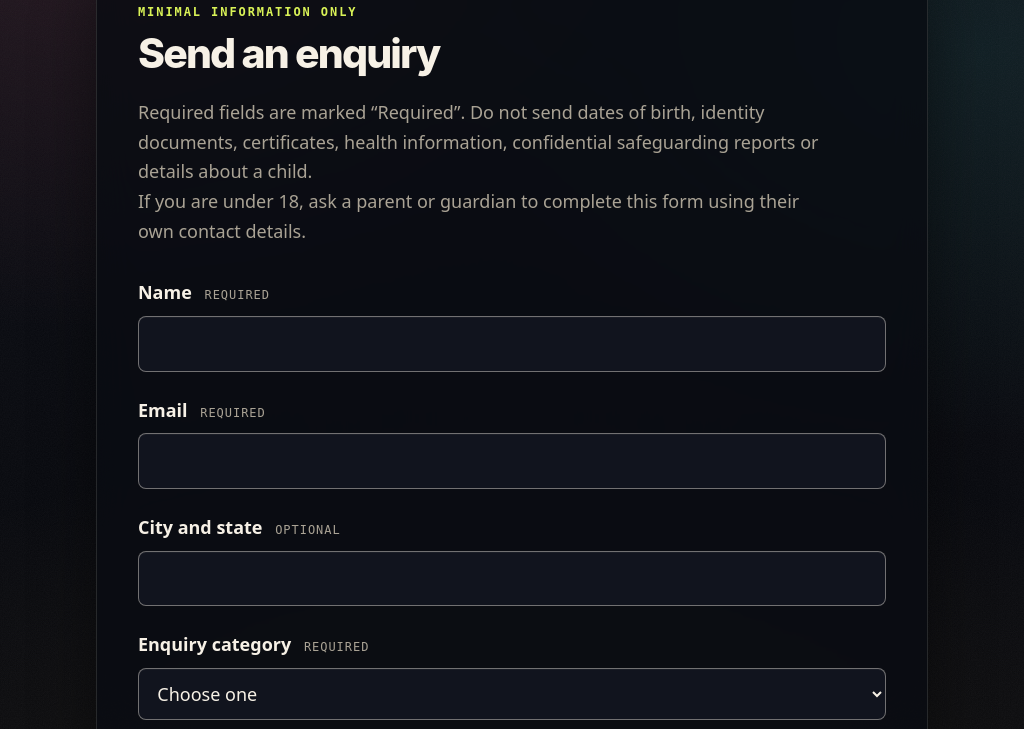
it: enquiry form workstream › preserves values and never shows success after a failed insert
Type "Test Person" into the field labelled "Name Required" at [512, 344], box 138,316 -> 886,372
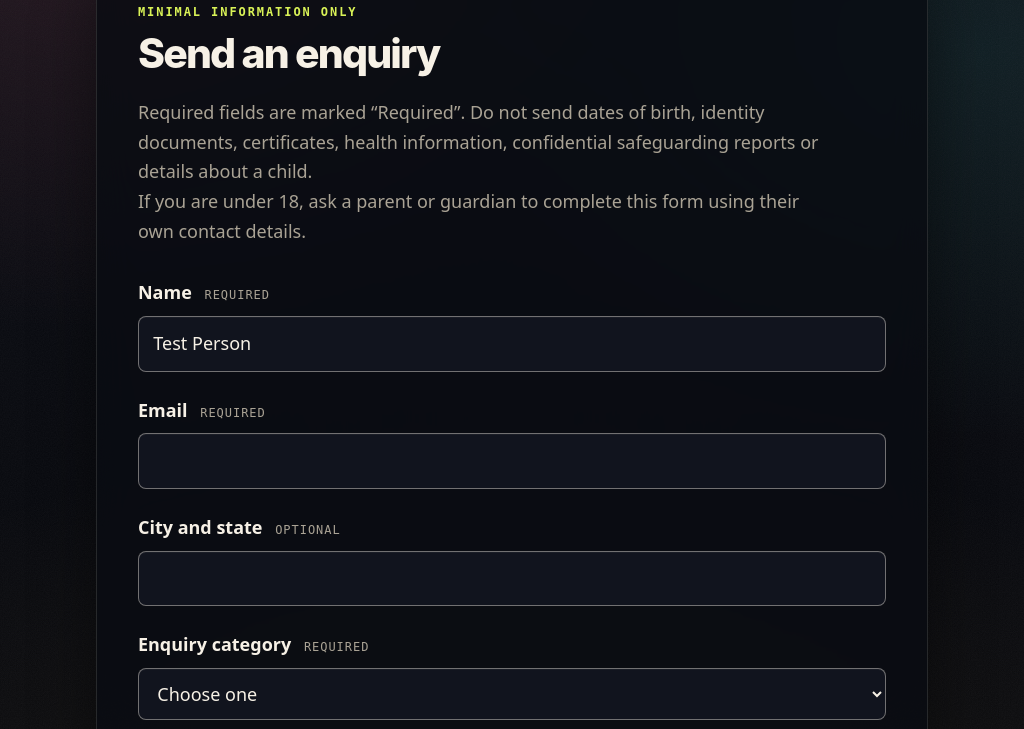
Type "person@example.com" into the field labelled "Email Required" at [512, 461], box 138,433 -> 886,489
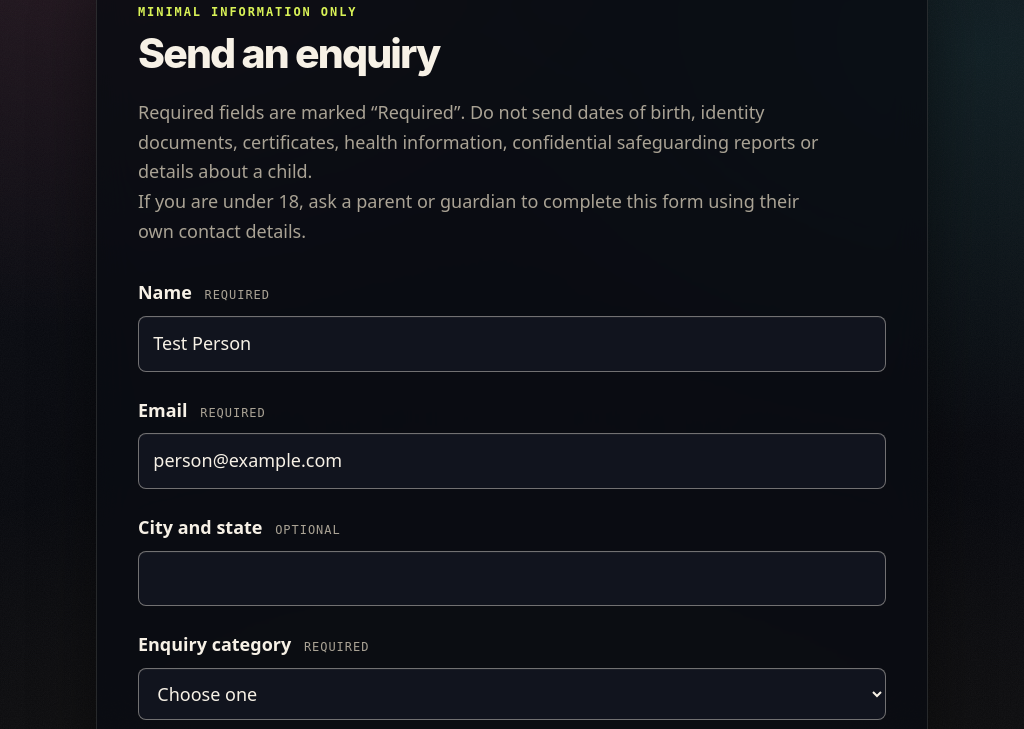
Select "General question" in the dropdown labelled "Enquiry category Required" at [512, 694], box 138,668 -> 886,720
(page scrolled)
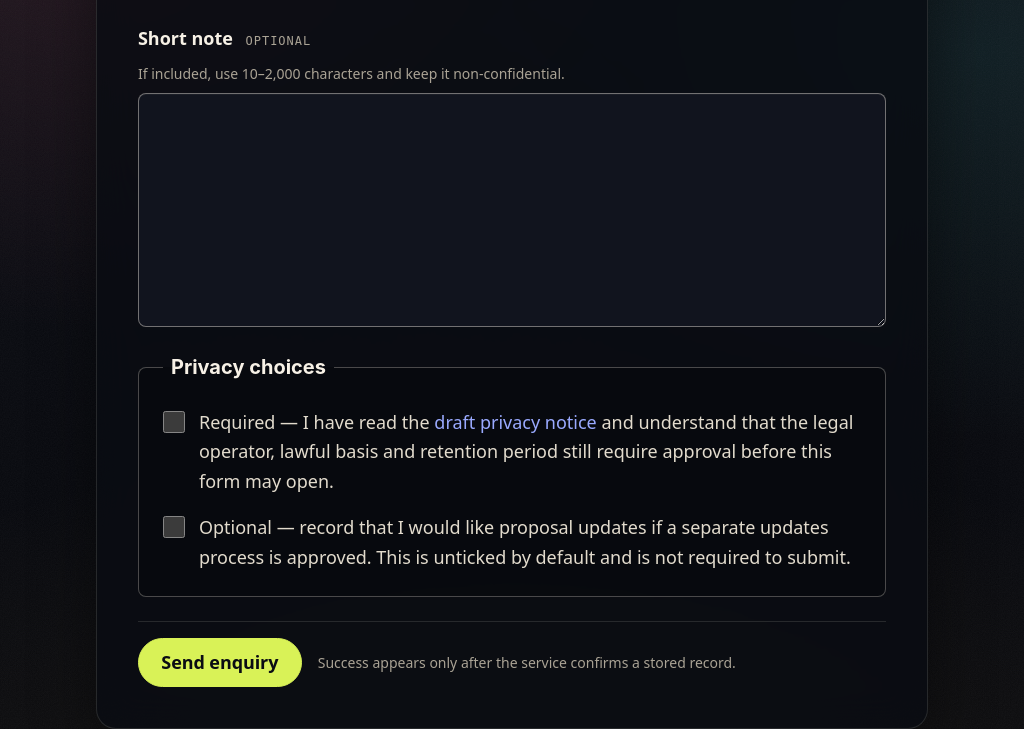
Click the checkbox labelled "Required — I have read the draft privacy notice" at [174, 422], box 163,411 -> 185,432
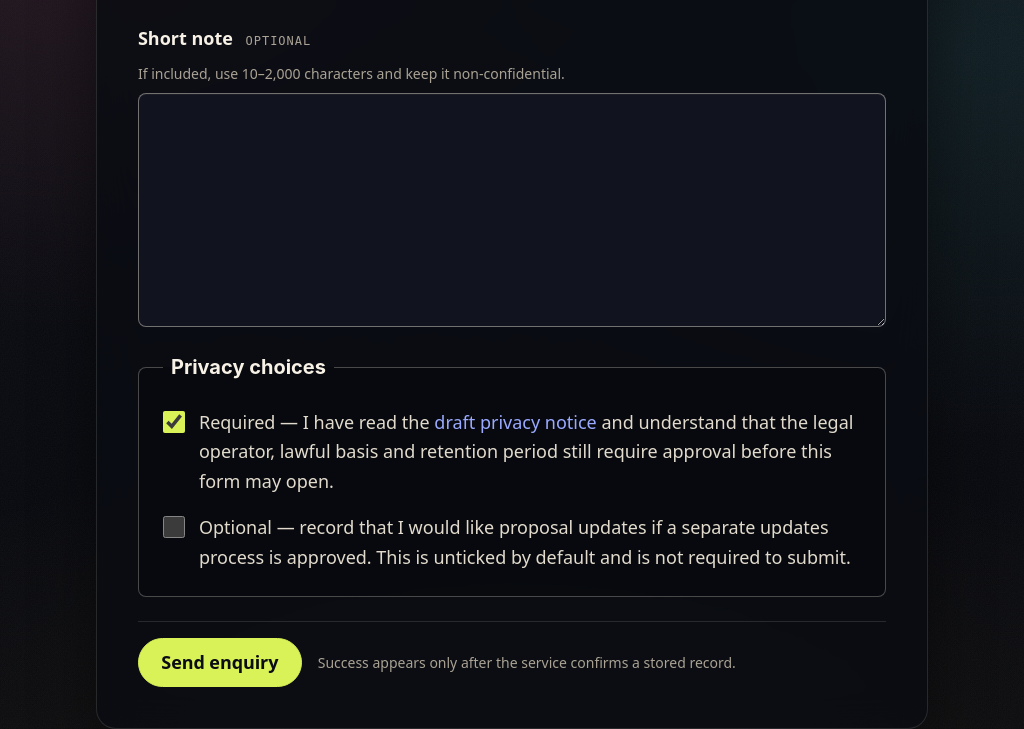
Click the button "Send enquiry" at [220, 663], box 138,638 -> 302,687
(page scrolled)
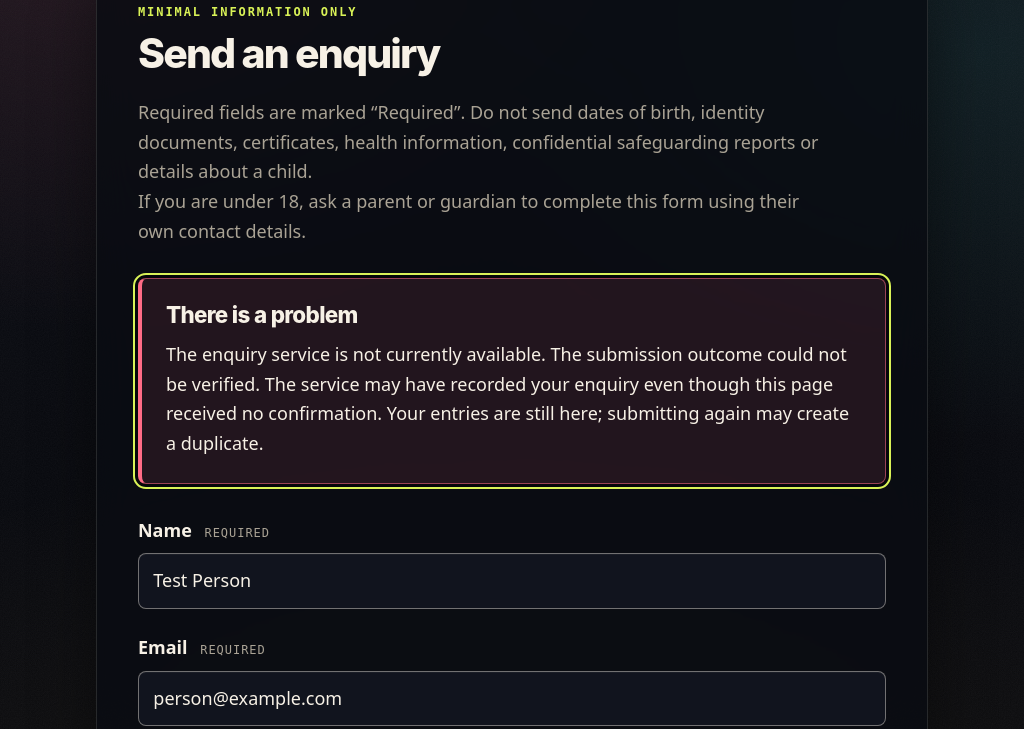
Check: the message shows "The enquiry service is not currently available.", box 166,342 -> 849,455
Check: the message shows "The service may have recorded your enquiry", box 166,342 -> 849,455
